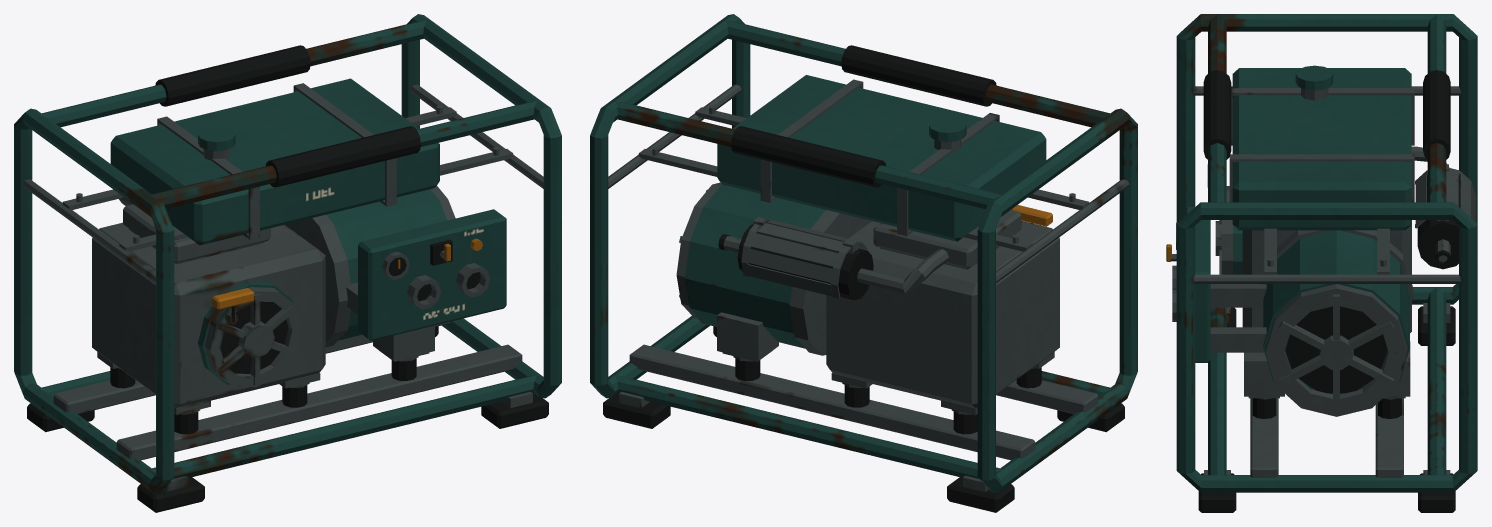
The model's file is portable_generator.glb.
3 renders of one model, left to right at view 1: azimuth 30°, elevation 25°; view 2: azimuth 150°, elevation 25°; view 3: azimuth 270°, elevation 25°, orthographic.
Parts seen in each view (by area): view 1: PortableGeneratorMesh; view 2: PortableGeneratorMesh; view 3: PortableGeneratorMesh.
Boxes of the visible parts, bbox=[...] form: PortableGeneratorMesh: bbox=[14, 14, 561, 512]; PortableGeneratorMesh: bbox=[590, 14, 1137, 512]; PortableGeneratorMesh: bbox=[1166, 14, 1477, 512].
Size of what is drawn, in the model's own units: 0.74 by 0.552 by 0.4965.
1 material, 1 textured.
